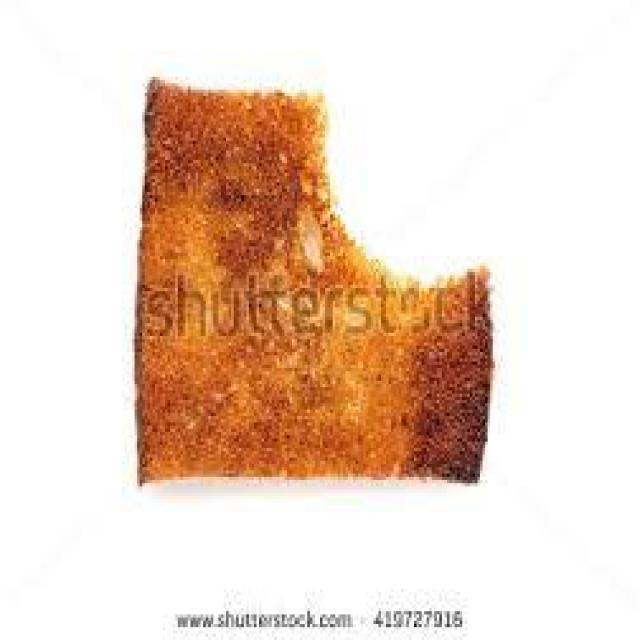organic: (132, 80, 493, 486)
